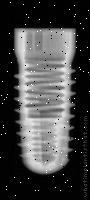Camlog: (14, 28, 76, 176)
